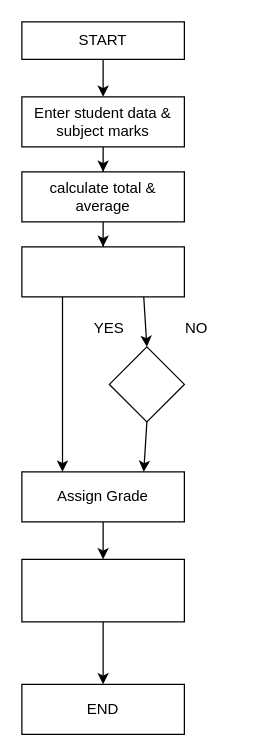
Image size: 256x756. Some labels were removed from this diagram. The centre of each missing label's shape, as x and y in pixels:
"average >=50?" belongs at point (102, 271).
"Display Result" belongs at point (102, 590).
"FAIL" belongs at point (146, 384).
